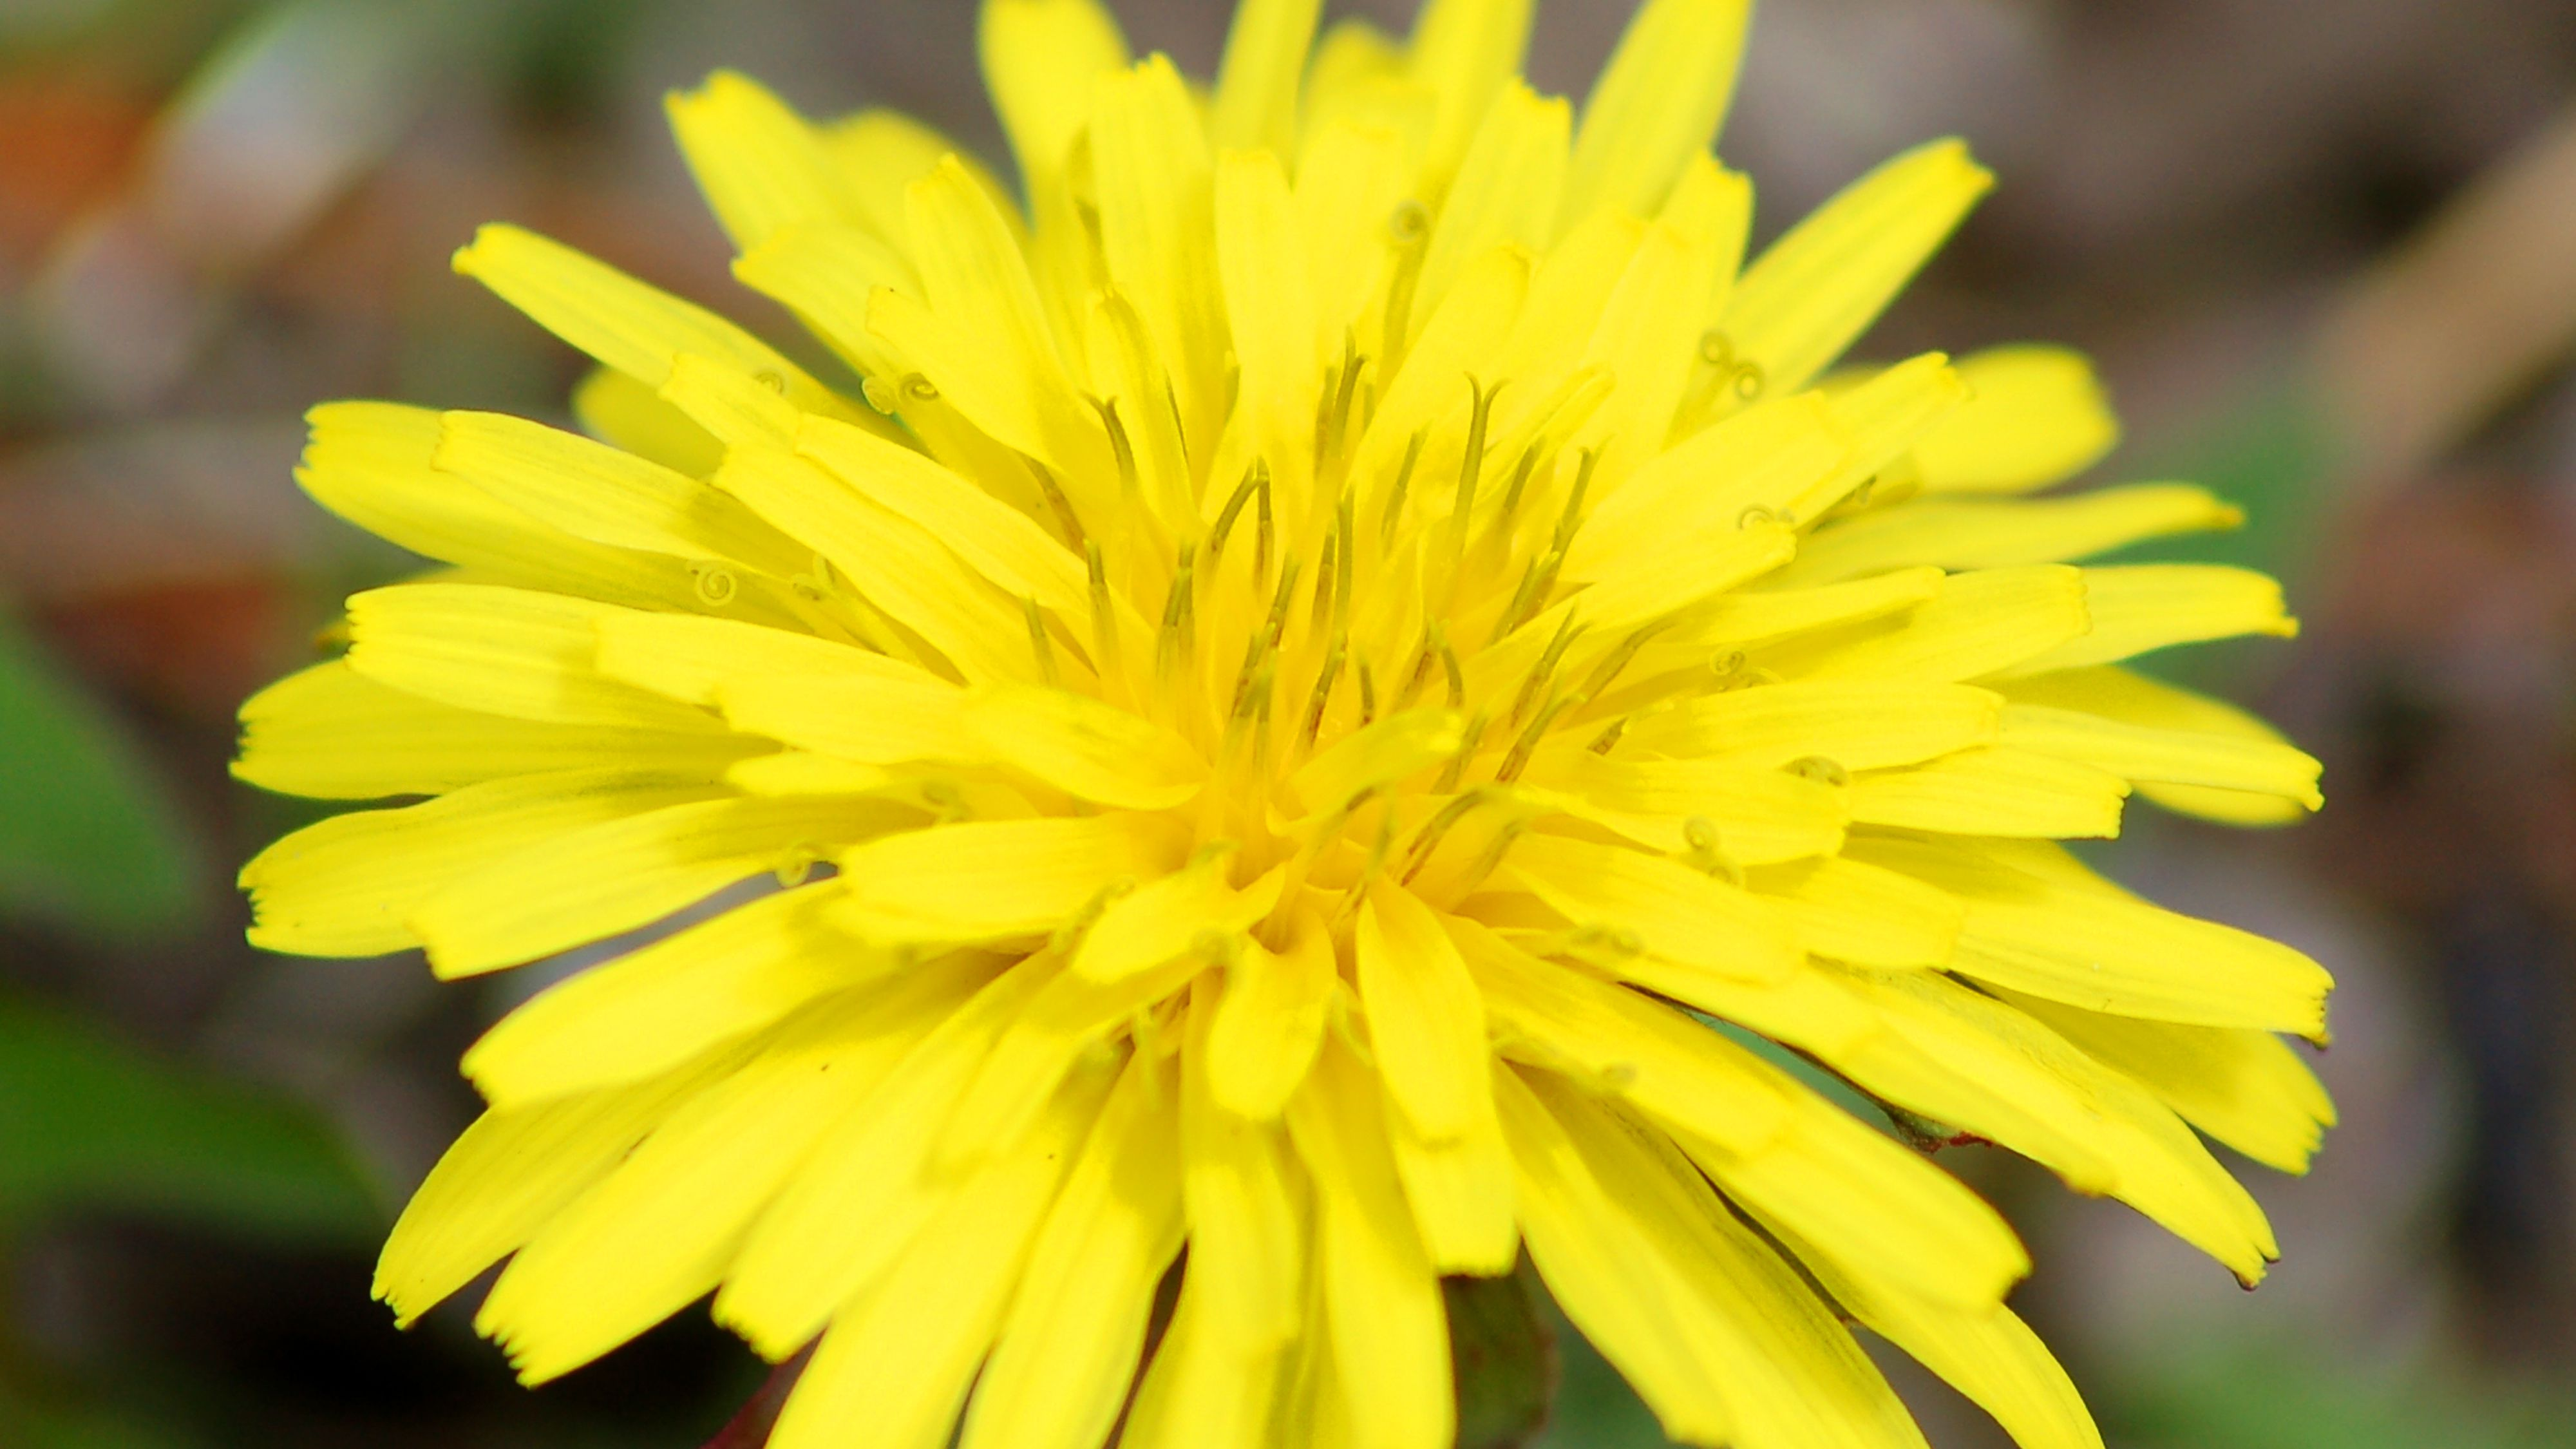dandelion: (274, 73, 2383, 1449)
